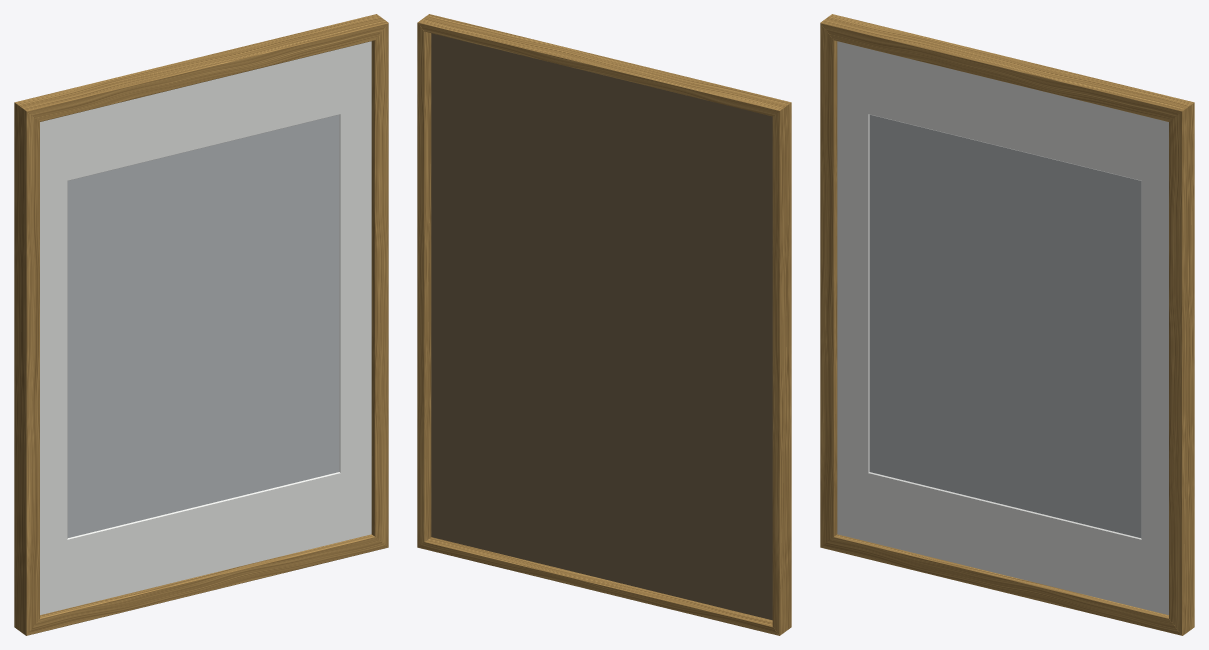
The model's file is oak_frame.glb.
3 renders of one model, left to right at view 1: azimuth 30°, elevation 25°; view 2: azimuth 150°, elevation 25°; view 3: azimuth 330°, elevation 25°, orthographic.
Parts seen in each view (by area): view 1: Grey_print_40x50cm, White_mat_50x70_with_39x49_clear_aperture, Left_mitred_oak_rail, Top_mitred_oak_rail, Right_mitred_oak_rail, Bottom_mitred_oak_rail; view 2: Plain_recessed_backing_assumed, Left_mitred_oak_rail, Right_mitred_oak_rail, Top_mitred_oak_rail, Bottom_mitred_oak_rail; view 3: Grey_print_40x50cm, White_mat_50x70_with_39x49_clear_aperture, Right_mitred_oak_rail, Top_mitred_oak_rail, Left_mitred_oak_rail, Bottom_mitred_oak_rail.
Part boxes in pixels (x1=…): Grey_print_40x50cm: x1=67, y1=115, x2=339, y2=537; White_mat_50x70_with_39x49_clear_aperture: x1=40, y1=41, x2=371, y2=614; Left_mitred_oak_rail: x1=14, y1=102, x2=39, y2=635; Top_mitred_oak_rail: x1=15, y1=14, x2=388, y2=121; Right_mitred_oak_rail: x1=371, y1=23, x2=388, y2=547; Bottom_mitred_oak_rail: x1=27, y1=534, x2=387, y2=635; Plain_recessed_backing_assumed: x1=431, y1=33, x2=772, y2=620; Left_mitred_oak_rail: x1=772, y1=102, x2=791, y2=635; Right_mitred_oak_rail: x1=417, y1=23, x2=431, y2=547; Top_mitred_oak_rail: x1=417, y1=14, x2=790, y2=116; Bottom_mitred_oak_rail: x1=418, y1=537, x2=779, y2=635; Grey_print_40x50cm: x1=869, y1=115, x2=1141, y2=537; White_mat_50x70_with_39x49_clear_aperture: x1=837, y1=41, x2=1168, y2=614; Right_mitred_oak_rail: x1=1169, y1=102, x2=1194, y2=635; Top_mitred_oak_rail: x1=820, y1=14, x2=1193, y2=121; Left_mitred_oak_rail: x1=820, y1=23, x2=837, y2=547; Bottom_mitred_oak_rail: x1=821, y1=534, x2=1181, y2=635.
Size of the model in its own units: 0.52 by 0.72 by 0.03.
Materials: 4 (1 with a texture image).
